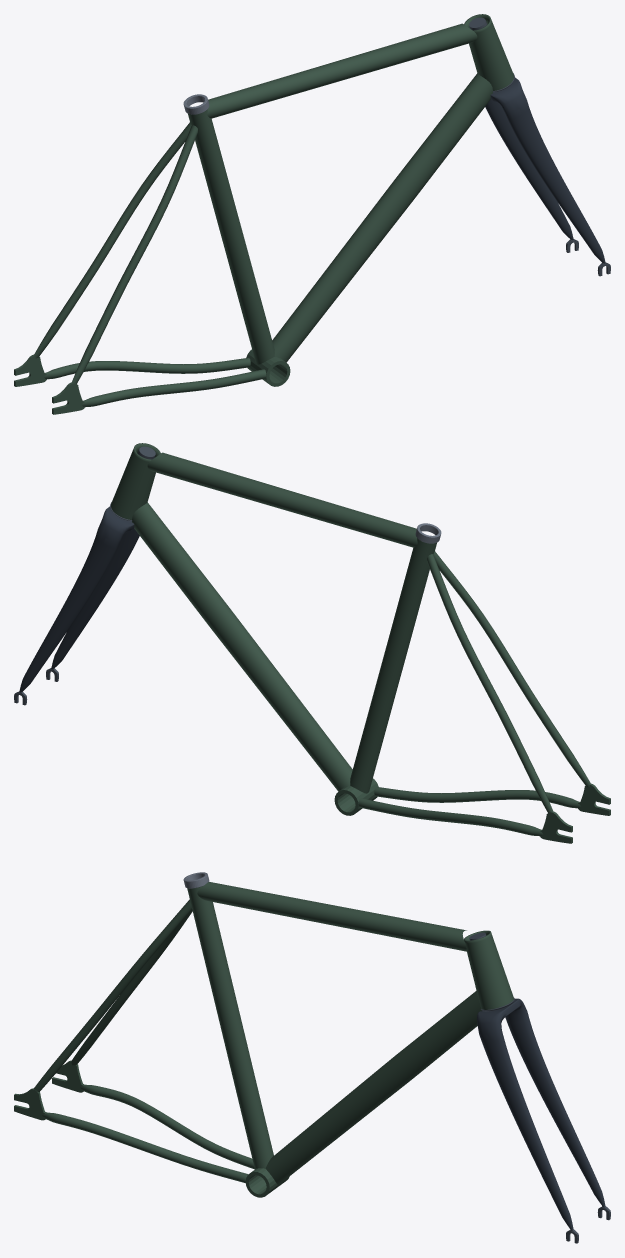
Rendered from skream-ranger-s.glb.
3 renders of one model, top to bottom at view 1: azimuth 30°, elevation 25°; view 2: azimuth 150°, elevation 25°; view 3: azimuth 330°, elevation 25°, orthographic.
Parts seen in each view (by area): view 1: paint_down, paint_top, paint_seat, fork_blade_1, paint_seatstay_1, paint_seatstay_-1, fork_blade_-1, paint_chainstay_-1, paint_head, paint_chainstay_1, paint_bottom_bracket, fork_crown (+2 smaller); view 2: paint_down, paint_top, paint_seat, fork_blade_-1, paint_seatstay_-1, paint_seatstay_1, fork_blade_1, paint_chainstay_1, paint_head, paint_chainstay_-1, paint_bottom_bracket, fork_crown (+2 smaller); view 3: paint_down, paint_seat, paint_top, fork_blade_1, fork_blade_-1, paint_head, paint_seatstay_1, paint_chainstay_1, paint_chainstay_-1, paint_seatstay_-1, fork_crown, paint_bottom_bracket (+2 smaller).
Boxes of the visible parts, box(x1,y1,x2,y2) form: paint_down: box(272, 73, 492, 362); paint_top: box(207, 23, 477, 118); paint_seat: box(188, 109, 274, 364); fork_blade_1: box(505, 102, 605, 263); paint_seatstay_1: box(71, 125, 197, 383); paint_seatstay_-1: box(33, 122, 191, 358); fork_blade_-1: box(485, 99, 573, 240); paint_chainstay_-1: box(44, 357, 250, 379); paint_head: box(464, 14, 513, 90); paint_chainstay_1: box(82, 369, 266, 407); paint_bottom_bracket: box(246, 349, 290, 386); fork_crown: box(490, 77, 527, 113); paint_down: box(132, 502, 352, 791); paint_top: box(147, 452, 417, 547); paint_seat: box(350, 538, 436, 793); fork_blade_-1: box(19, 531, 119, 692); paint_seatstay_-1: box(427, 554, 553, 812); paint_seatstay_1: box(433, 551, 591, 787); fork_blade_1: box(51, 528, 139, 669); paint_chainstay_1: box(374, 786, 580, 808); paint_head: box(111, 443, 160, 519); paint_chainstay_-1: box(358, 798, 542, 836); paint_bottom_bracket: box(334, 778, 378, 815); fork_crown: box(97, 506, 134, 542); paint_down: box(265, 991, 481, 1184); paint_seat: box(187, 887, 273, 1169); paint_top: box(197, 882, 466, 951); fork_blade_1: box(479, 1030, 573, 1230); fork_blade_-1: box(505, 1012, 605, 1207); paint_head: box(464, 930, 513, 1009); paint_seatstay_1: box(33, 899, 191, 1092); paint_chainstay_1: box(42, 1112, 248, 1183); paint_chainstay_-1: box(80, 1084, 254, 1169); paint_seatstay_-1: box(71, 909, 192, 1065); fork_crown: box(477, 998, 527, 1034); paint_bottom_bracket: box(245, 1168, 289, 1197).
Size of the model in its own units: 1.07 by 0.5614 by 0.1434.
